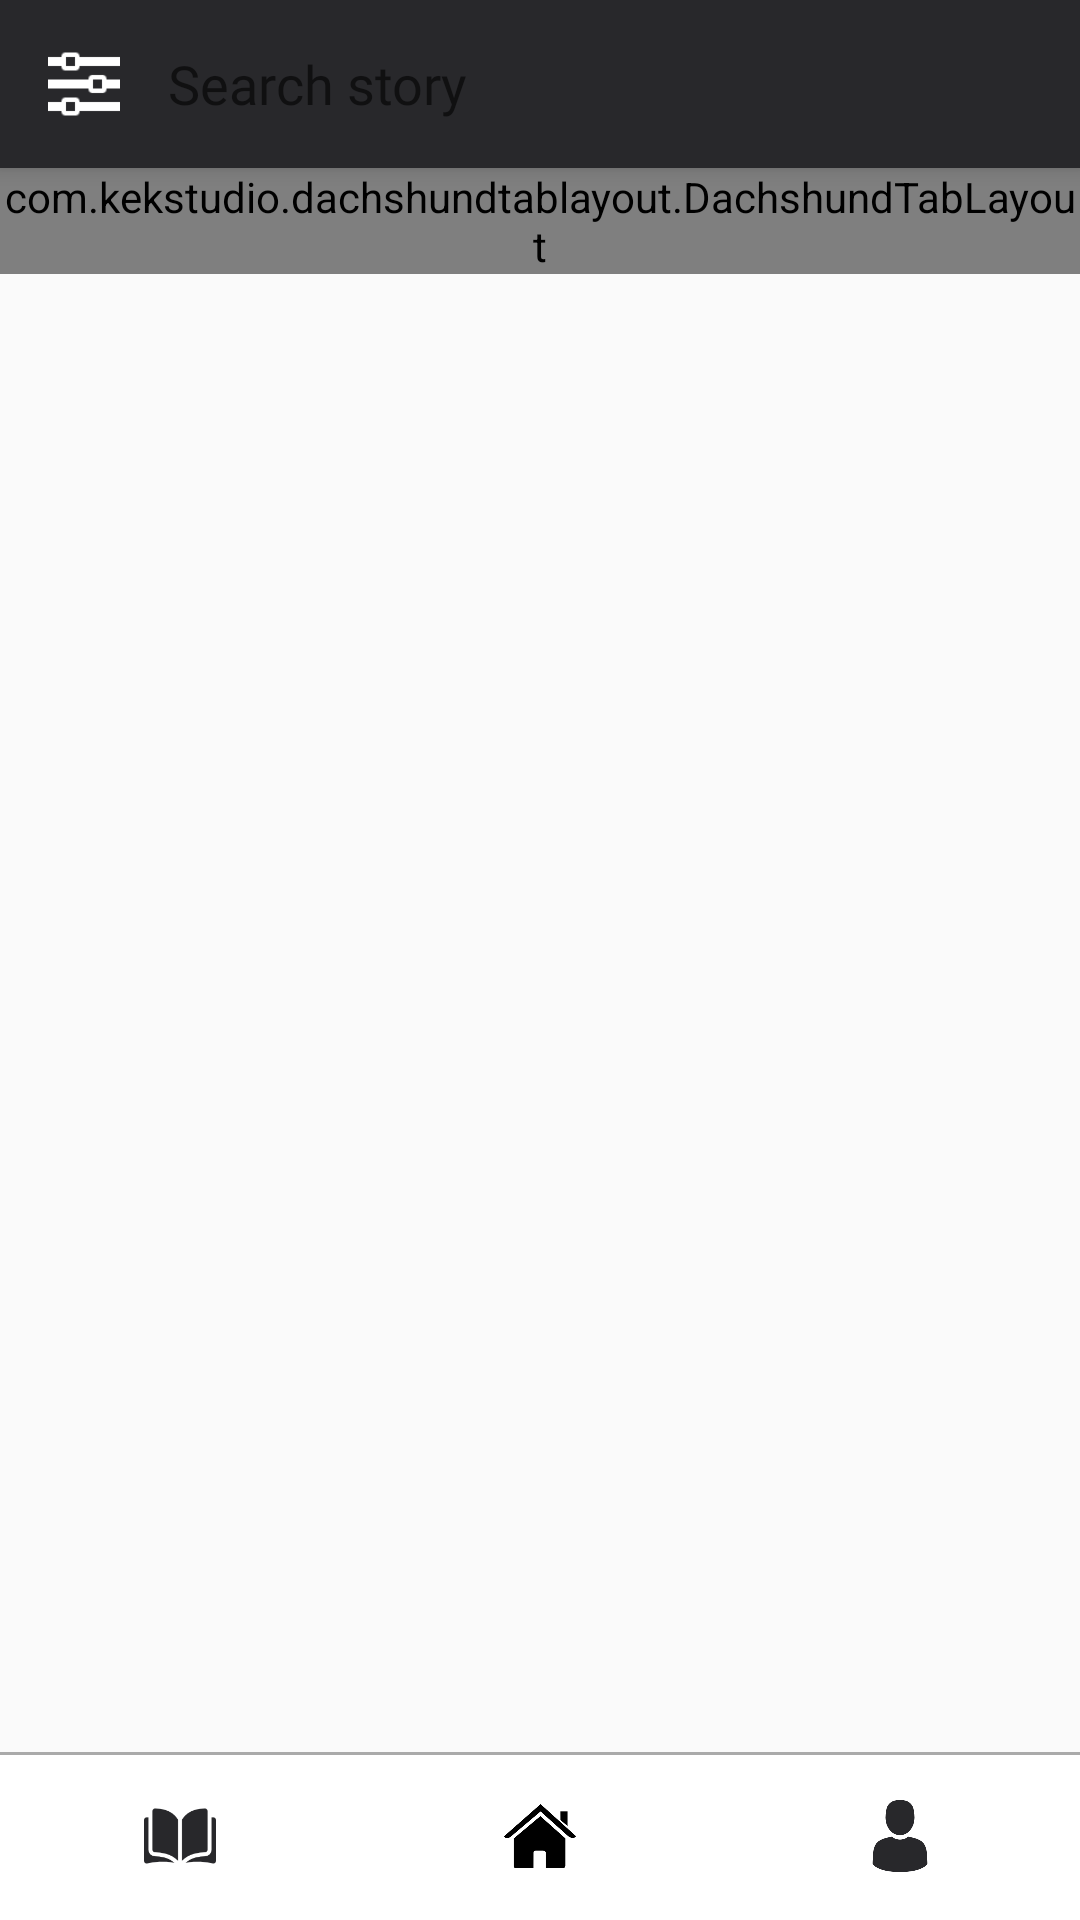

Icons on this 1080 x 1920 Android screen, each with the point to tap as (x,y):
account: (900,1836)
home: (540,1836)
reading: (180,1836)
setting: (84,84)
